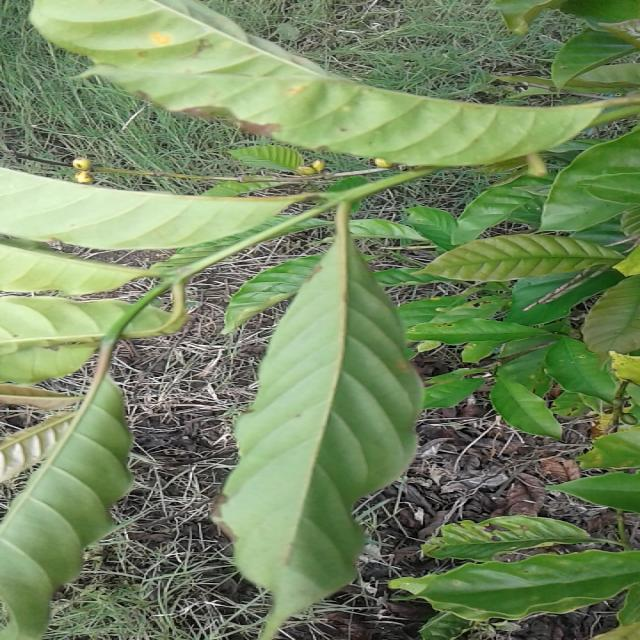Enfermedad-Roya: (214, 206, 424, 640)
